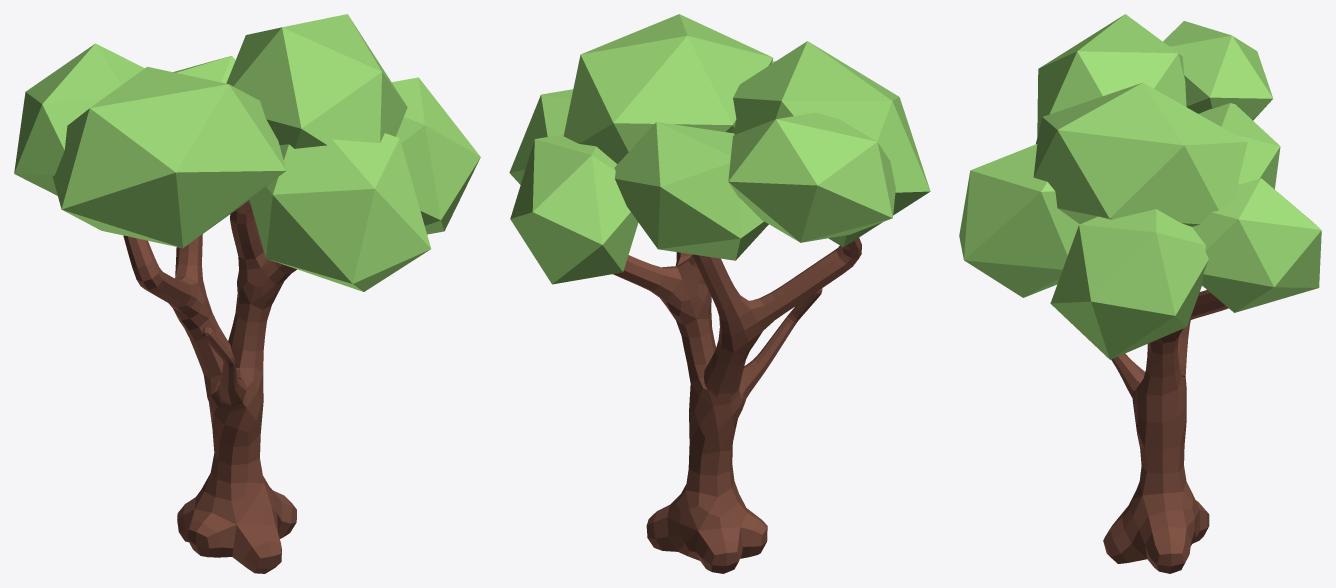
File: tree.fbx
3 renders of one model, left to right at view 1: azimuth 30°, elevation 25°; view 2: azimuth 150°, elevation 25°; view 3: azimuth 270°, elevation 25°, orthographic. The views are drawn at different scales.
Parts seen in each view (by area): view 1: leaves, Tree; view 2: leaves, Tree; view 3: leaves, Tree.
Part boxes in pixels (x1,y1,x2,y2): leaves: [14, 14, 480, 291]; Tree: [123, 200, 296, 573]; leaves: [509, 14, 930, 284]; Tree: [613, 237, 861, 573]; leaves: [959, 14, 1321, 359]; Tree: [1103, 290, 1228, 573].
Size of the model in its own units: 685 by 836 by 1029.
